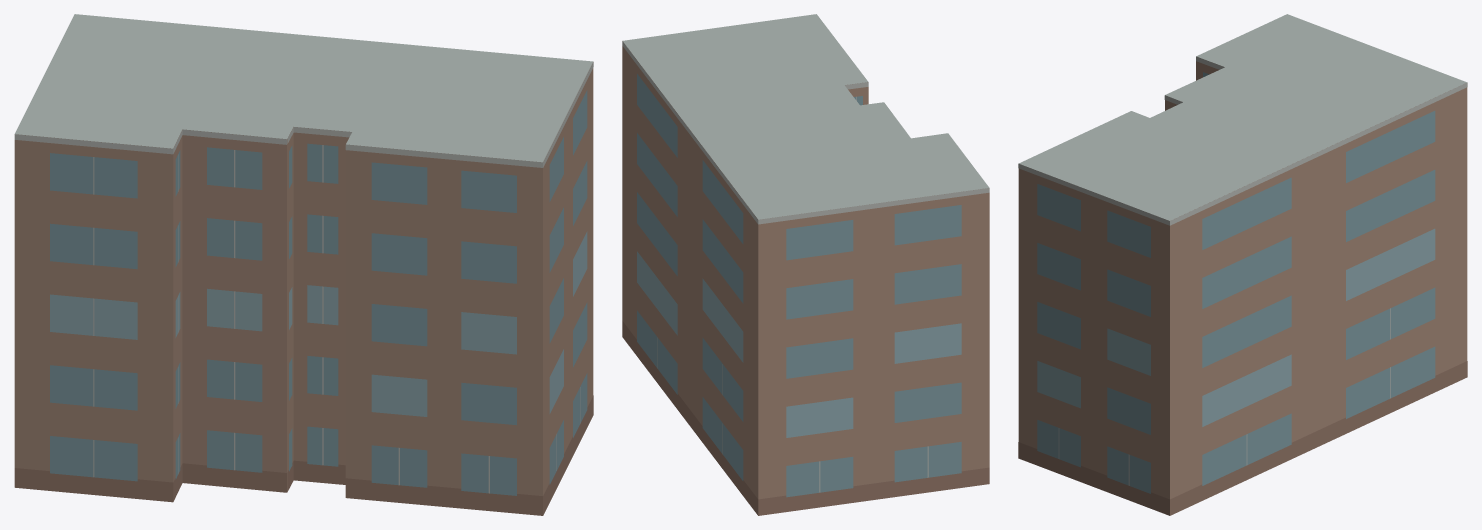
File: survey-upis-32535654.glb
3 renders of one model, left to right at view 1: azimuth 30°, elevation 25°; view 2: azimuth 150°, elevation 25°; view 3: azimuth 270°, elevation 25°, orthographic. The views are drawn at different scales.
Visible parts, largest first — view 1: survey-upis-32535654.tmp; view 2: survey-upis-32535654.tmp; view 3: survey-upis-32535654.tmp.
Part boxes in pixels (x1,y1,x2,y2): survey-upis-32535654.tmp: [14, 14, 593, 515]; survey-upis-32535654.tmp: [622, 14, 989, 515]; survey-upis-32535654.tmp: [1018, 14, 1467, 515].
Size of the model in its own units: 22.74 by 15.1 by 20.84.
